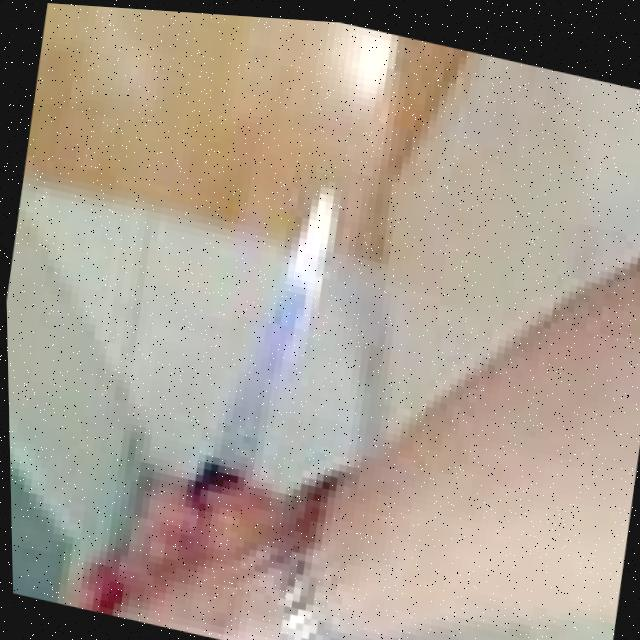knife: (193, 159, 348, 497)
